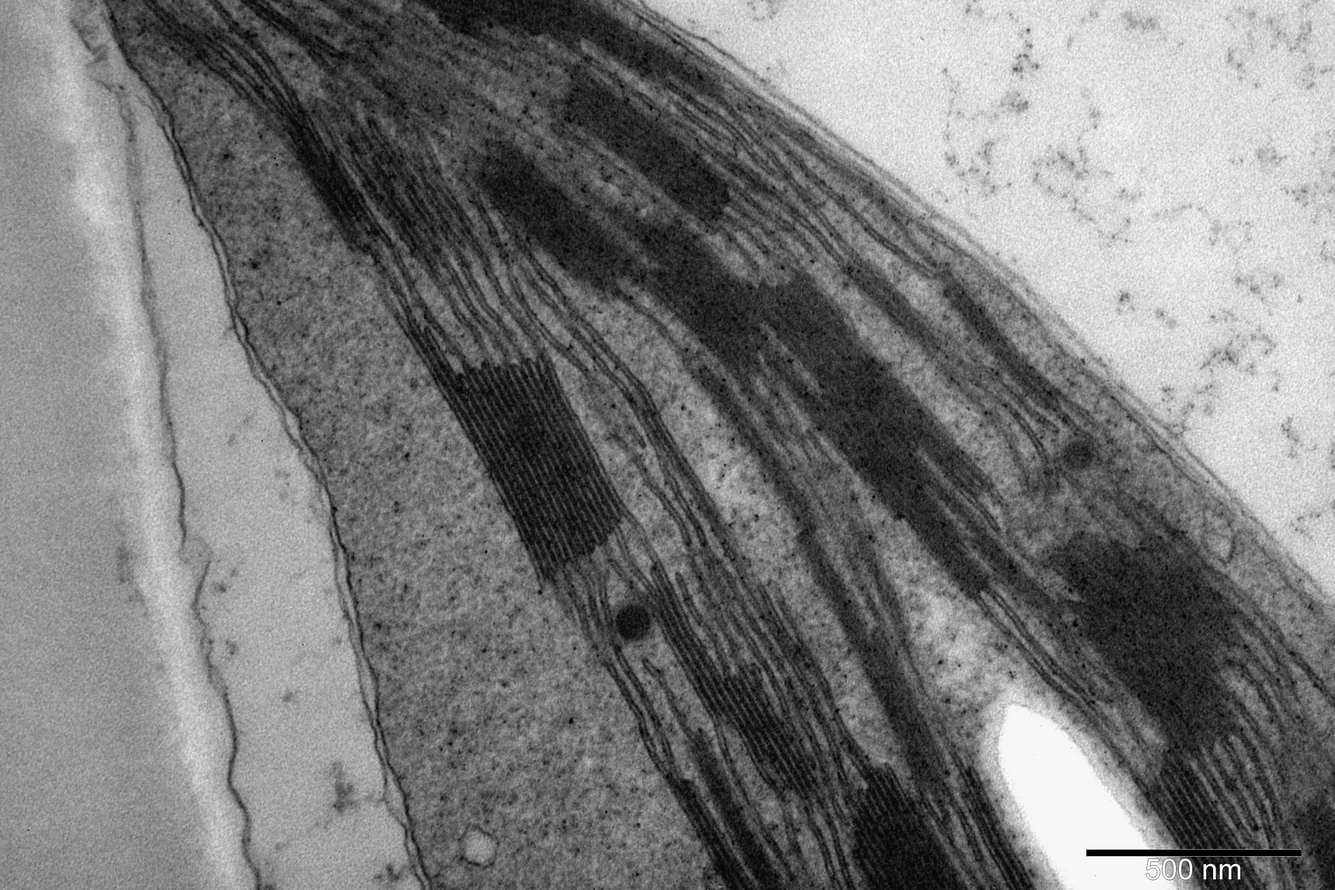granum: (756, 266, 995, 600), (403, 324, 626, 581), (1043, 526, 1239, 757), (639, 581, 822, 793), (557, 59, 733, 227), (478, 135, 640, 297), (415, 1, 680, 88), (633, 218, 765, 389), (342, 117, 476, 259), (936, 269, 1063, 412), (1133, 758, 1270, 890), (682, 731, 791, 890), (261, 103, 382, 243), (845, 628, 951, 784), (840, 766, 969, 890), (666, 777, 760, 890), (841, 252, 944, 349), (959, 779, 1037, 890), (1291, 802, 1335, 890)
